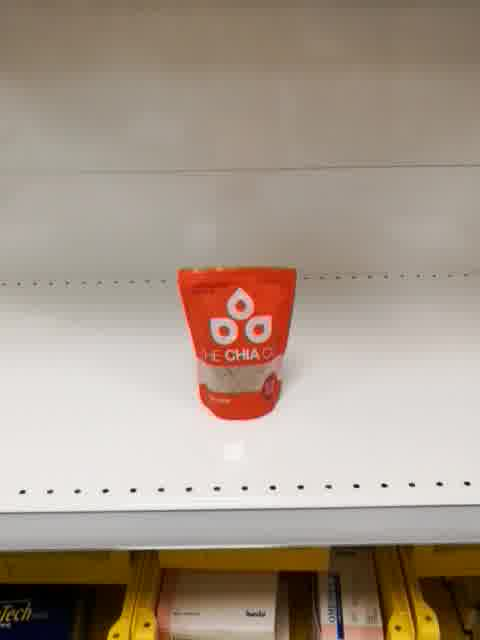whitechia: (176, 262, 298, 423)
